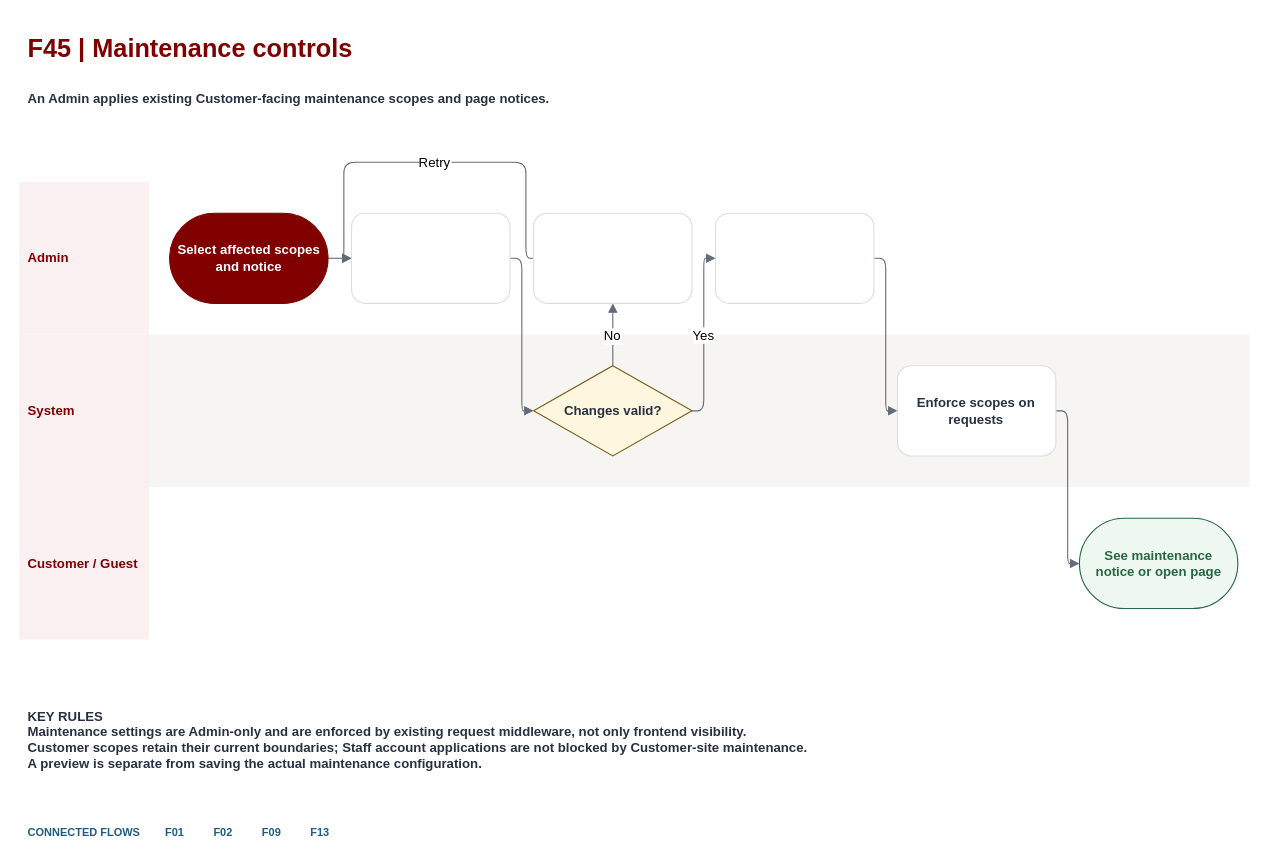
The diagram is 1268 pixels wide and 860 high, and some of its shapes have lost their labels. Here are the shapes that lost their labels. From the top down, the centre of each, then its label:
At pixel 430 257: "Review intended restrictions".
At pixel 612 257: "Correct settings; keep draft".
At pixel 794 257: "Confirm and save maintenance".
